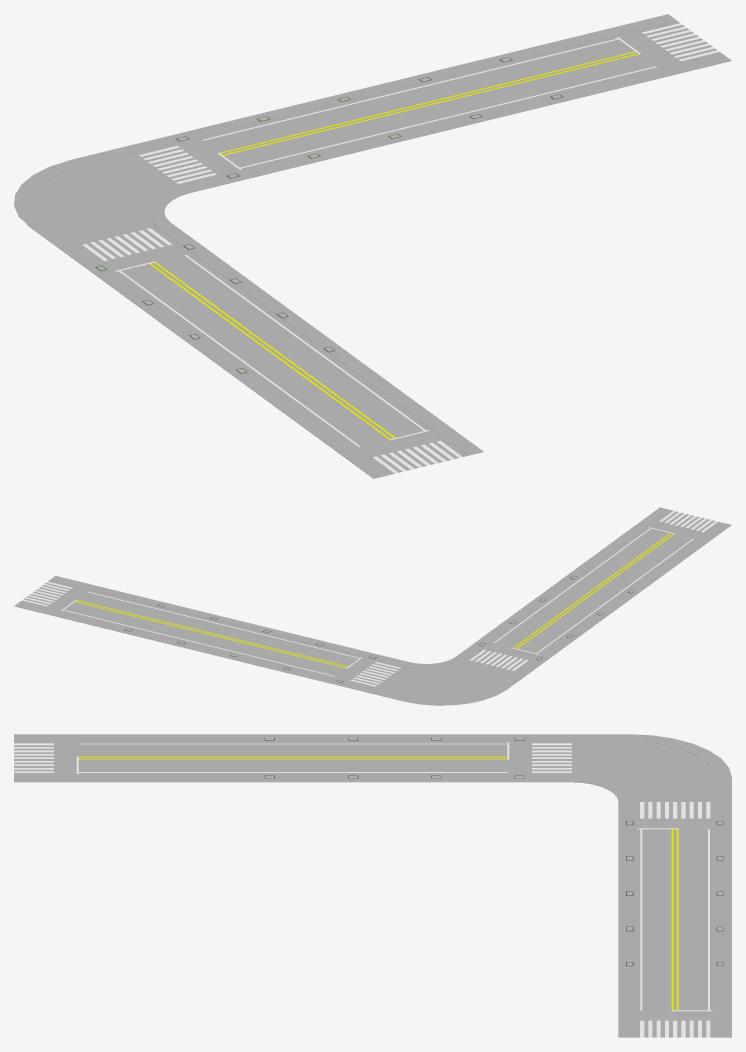
Rendered from road_2.gltf.
The picture shows the model from 3 angles, top to bottom: view 1: azimuth 30°, elevation 25°; view 2: azimuth 150°, elevation 25°; view 3: azimuth 270°, elevation 25°; orthographic projection. The views are drawn at different scales.
Visible parts, largest first — view 1: 道路05; view 2: 道路05; view 3: 道路05.
Part boxes in pixels (bbox=[...]): 道路05: bbox=[14, 14, 731, 478]; 道路05: bbox=[14, 507, 731, 705]; 道路05: bbox=[14, 734, 731, 1037].
Size of the model in its own units: 69.5 by 0.0513 by 69.5.
Materials: 6 (1 with a texture image).
